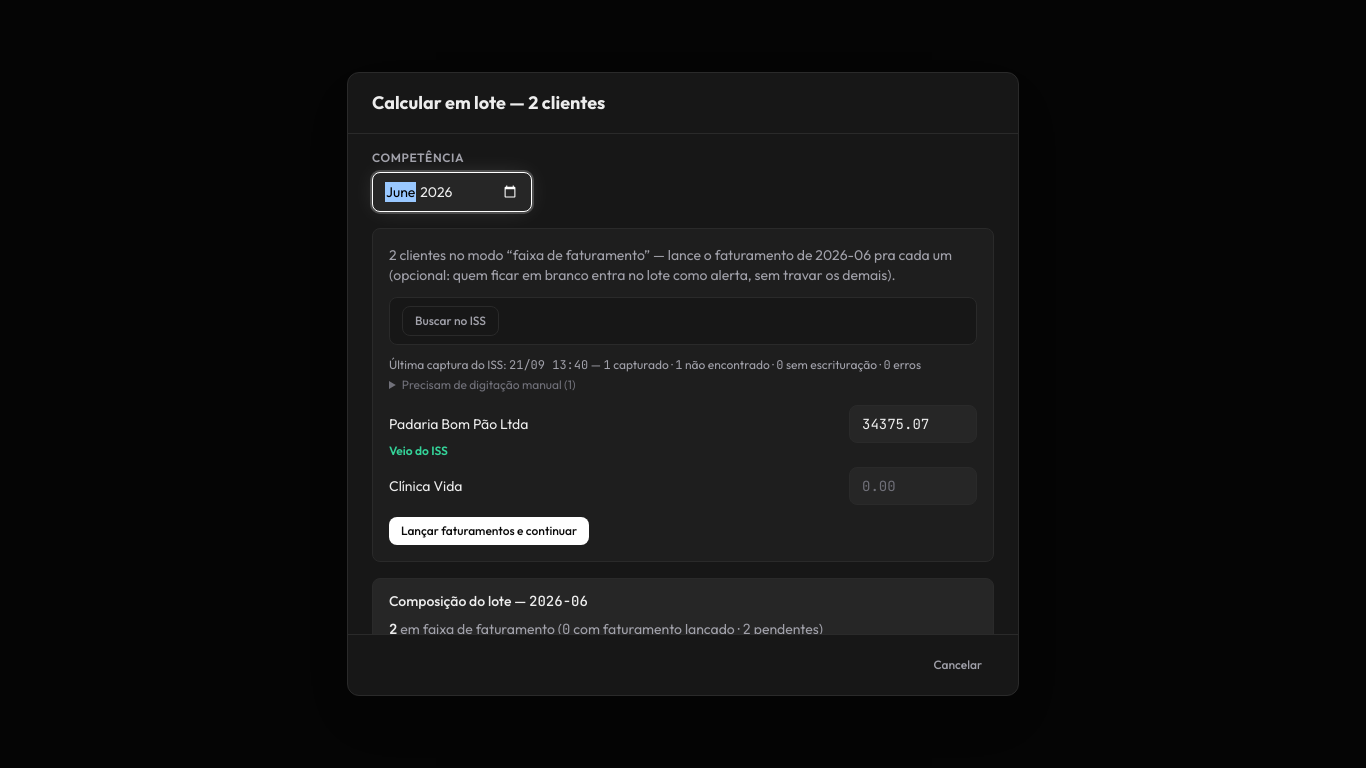
Test: LoteContabilidadeDialog — propostas do ISS (Story 13.3) › o operador pode APAGAR a proposta — campo vazio não volta a ser preenchido sozinho
This screenshot has width=1366, height=768.
Clear the 1st number field at (913, 424), box [849,405,977,443]
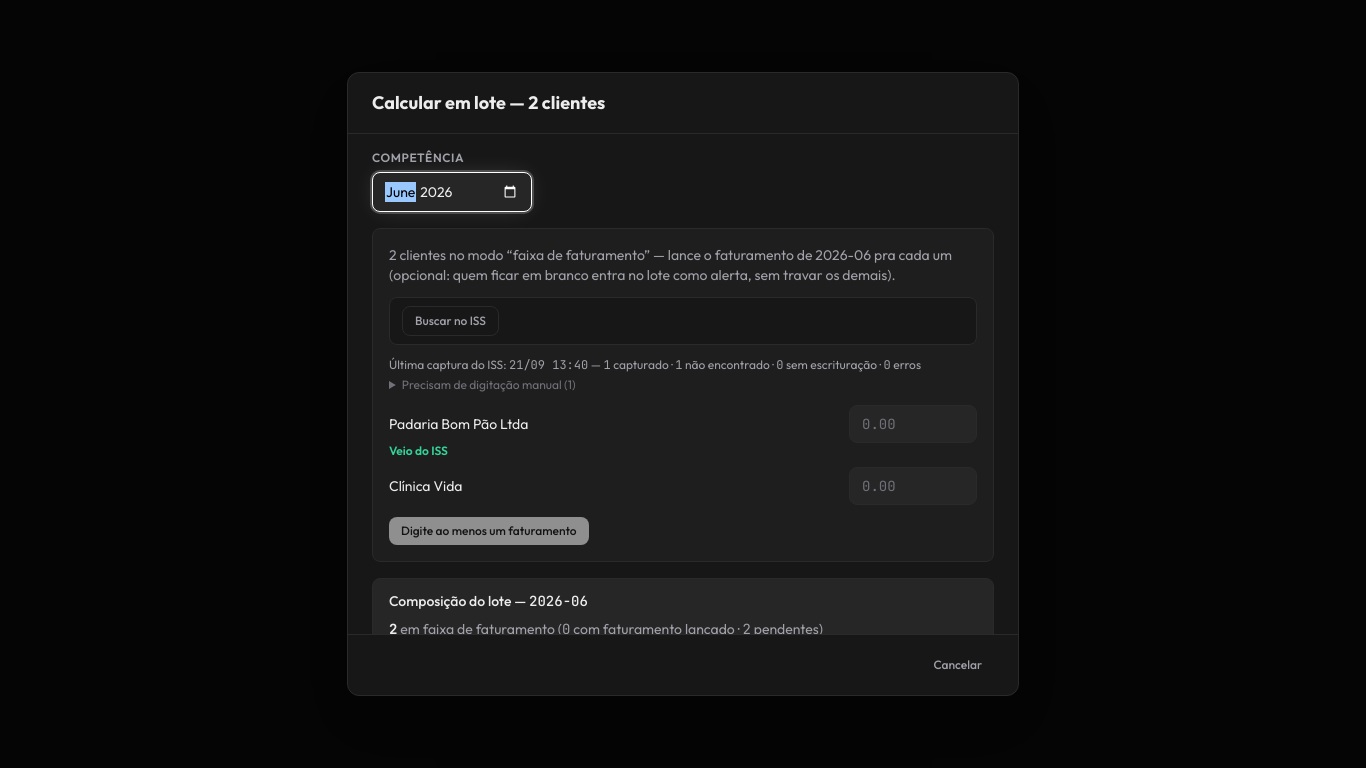
expect the button "Digite ao menos um faturamento" is disabled: met, box [389,517,589,545]
expect the button "Lançar faturamentos e continuar" is gone: met
